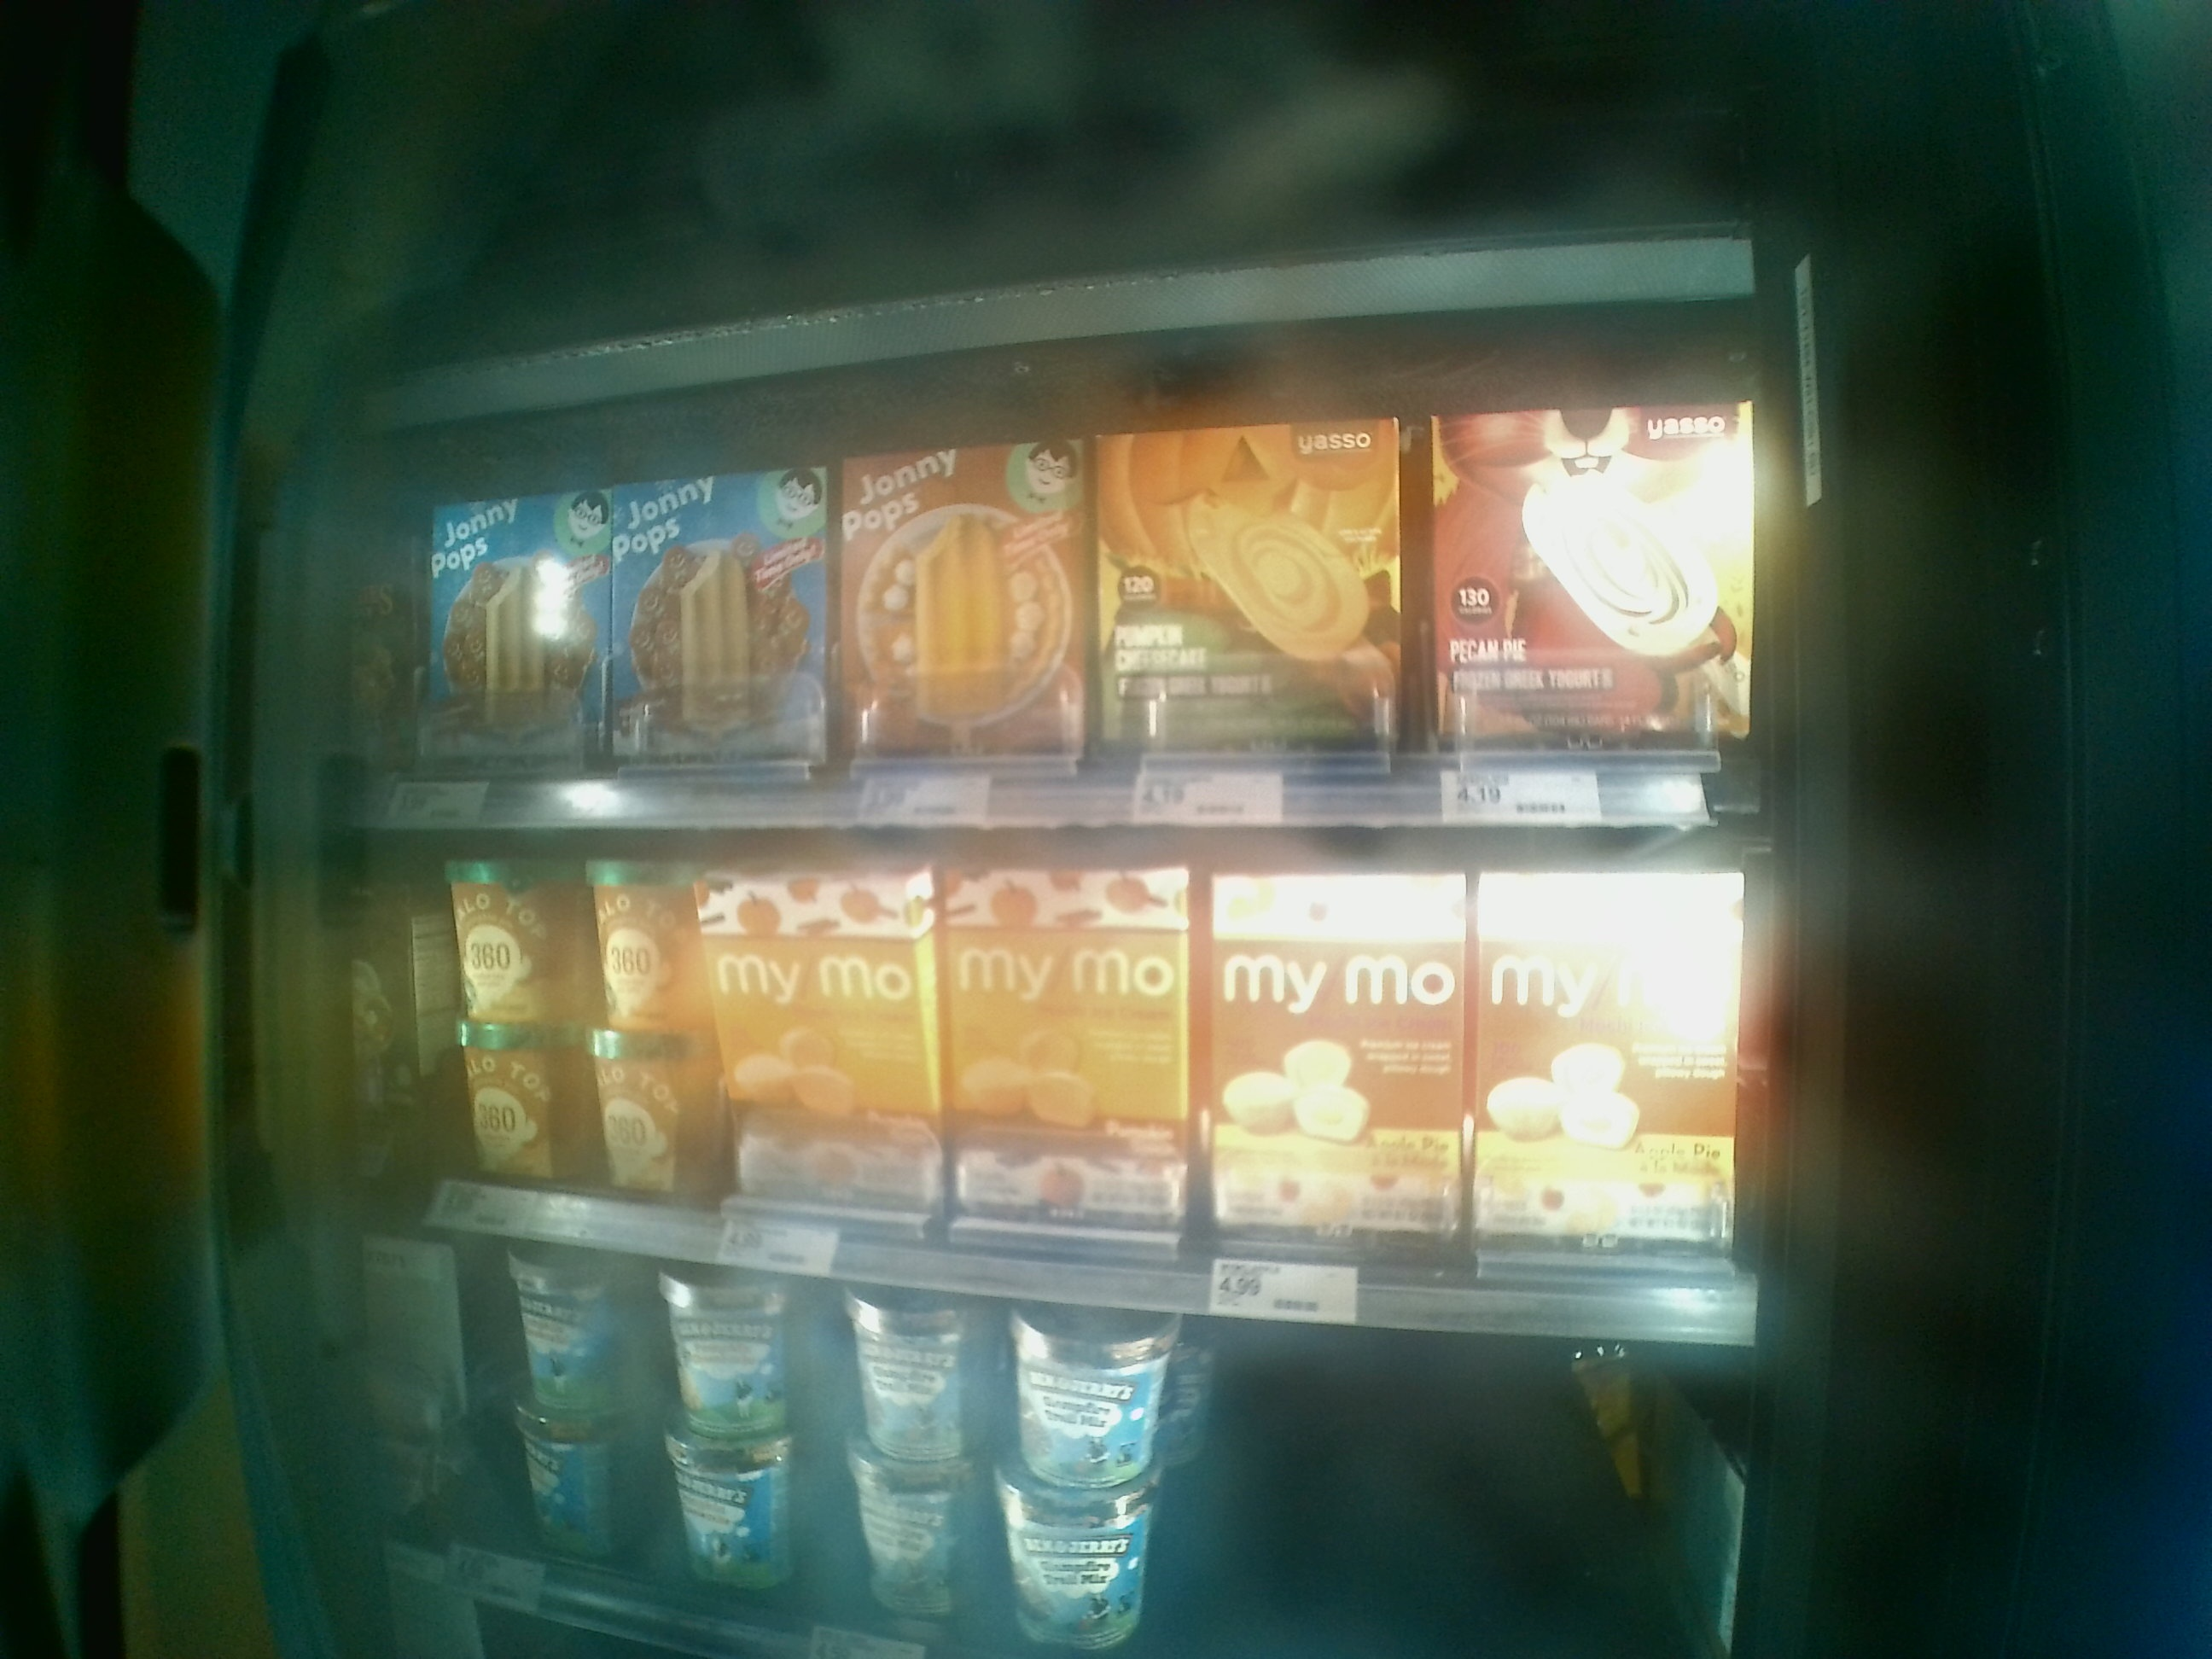shelf: (369, 798, 1752, 1330), (383, 444, 1743, 821)
